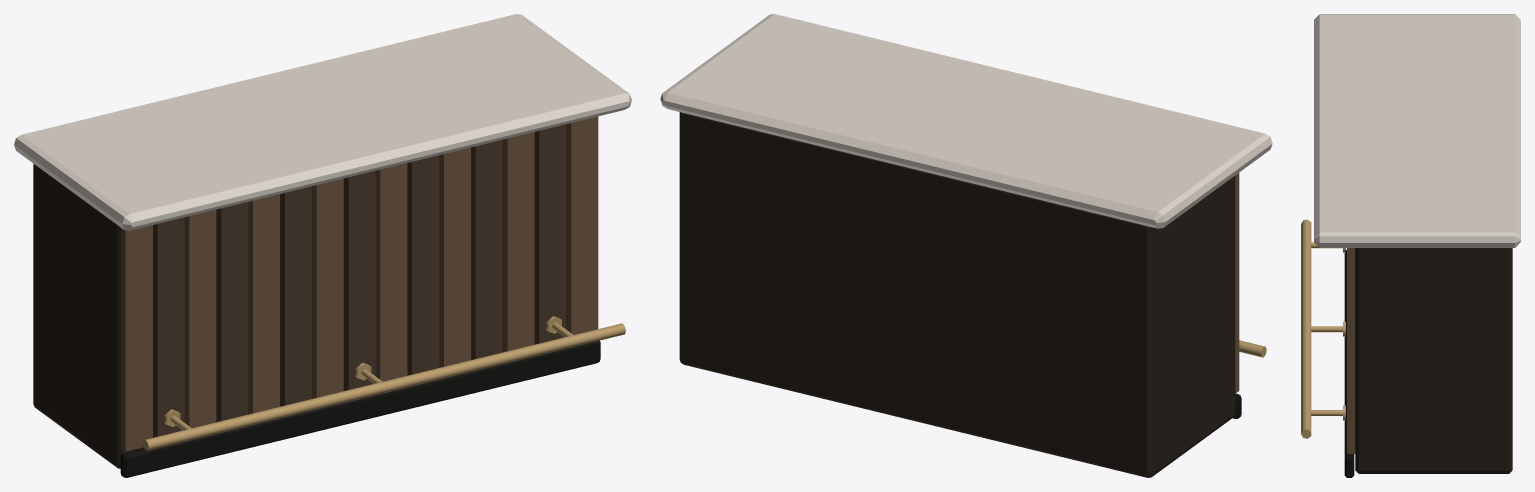
The model's file is bar-section.glb.
3 renders of one model, left to right at view 1: azimuth 30°, elevation 25°; view 2: azimuth 150°, elevation 25°; view 3: azimuth 270°, elevation 25°, orthographic. The views are drawn at different scales.
Visible parts, largest first — view 1: bar-section-17, bar-section-00, bar-section-16, bar-section-10, bar-section-04, bar-section-15, bar-section-09, bar-section-01, bar-section-11, bar-section-07, bar-section-06, bar-section-05 (+7 smaller); view 2: bar-section-00, bar-section-17, bar-section-01; view 3: bar-section-17, bar-section-00, bar-section-18, bar-section-15, bar-section-16.
Part boxes in pixels (x1=…): bar-section-17: x1=14, y1=14, x2=631, y2=230; bar-section-00: x1=33, y1=124, x2=566, y2=468; bar-section-16: x1=120, y1=340, x2=600, y2=477; bar-section-10: x1=407, y1=155, x2=439, y2=375; bar-section-04: x1=216, y1=202, x2=248, y2=421; bar-section-15: x1=566, y1=116, x2=598, y2=334; bar-section-09: x1=375, y1=163, x2=407, y2=381; bar-section-01: x1=121, y1=225, x2=152, y2=451; bar-section-11: x1=439, y1=147, x2=470, y2=367; bar-section-07: x1=312, y1=178, x2=343, y2=398; bar-section-06: x1=280, y1=186, x2=311, y2=406; bar-section-05: x1=248, y1=194, x2=279, y2=414; bar-section-00: x1=679, y1=112, x2=1235, y2=477; bar-section-17: x1=660, y1=14, x2=1272, y2=228; bar-section-01: x1=1235, y1=173, x2=1239, y2=393; bar-section-17: x1=1314, y1=14, x2=1520, y2=247; bar-section-00: x1=1355, y1=248, x2=1512, y2=473; bar-section-18: x1=1301, y1=219, x2=1311, y2=438; bar-section-15: x1=1347, y1=248, x2=1355, y2=453; bar-section-16: x1=1344, y1=250, x2=1354, y2=477.
Bounding box in the file's own units: 2.02 × 1.05 × 0.836.
